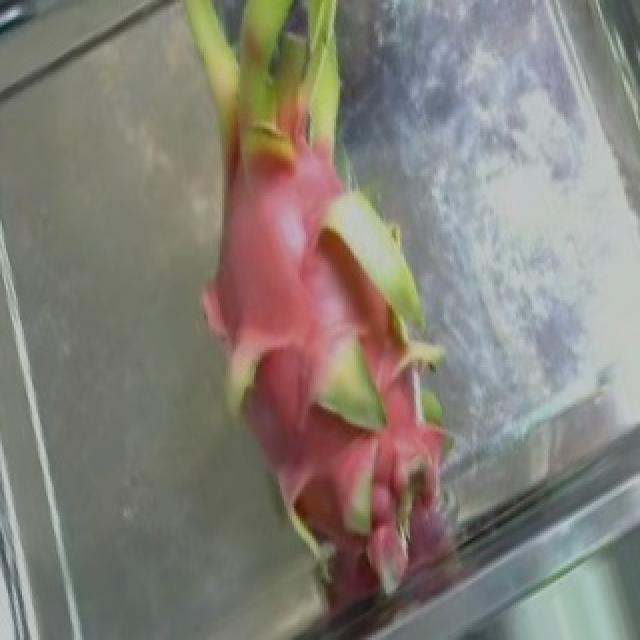fruit: (72, 0, 486, 417)
